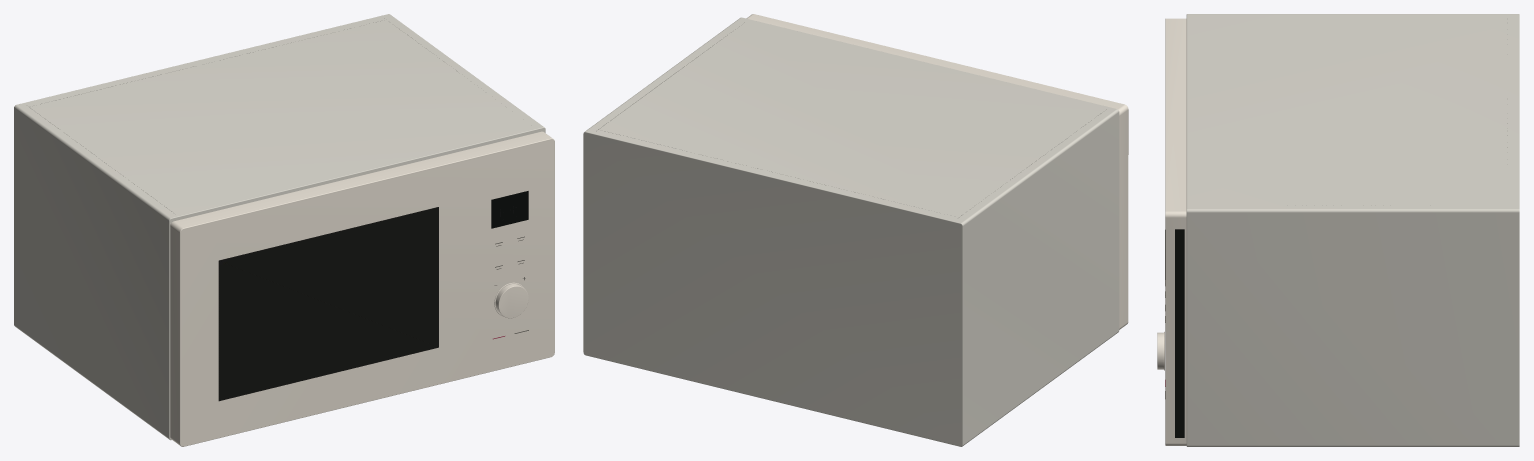
The model's file is MWJ25-batch08-325b15.glb.
The picture shows the model from 3 angles, left to right: view 1: azimuth 30°, elevation 25°; view 2: azimuth 150°, elevation 25°; view 3: azimuth 270°, elevation 25°; orthographic projection. The views are drawn at different scales.
Parts seen in each view (by area): view 1: BodyShell, DoorBody, WindowMesh, ControlDisplay, WindowRim, RotaryKnob; view 2: BodyShell, DoorBody; view 3: BodyShell, DoorBody, Foot_1_1.
Part boxes in pixels (box(x1,y1,x2,y2)): BodyShell: box(14, 14, 545, 440); DoorBody: box(170, 131, 554, 446); WindowMesh: box(219, 208, 437, 399); ControlDisplay: box(491, 191, 528, 228); WindowRim: box(218, 207, 438, 401); RotaryKnob: box(495, 284, 528, 318); BodyShell: box(583, 17, 1119, 446); DoorBody: box(746, 14, 1128, 329); BodyShell: box(1186, 14, 1519, 446); DoorBody: box(1164, 18, 1186, 445); Foot_1_1: box(1175, 229, 1184, 437).
Bounding box in the file's own units: 0.476 × 0.272 × 0.37.
11 materials, 1 textured.
